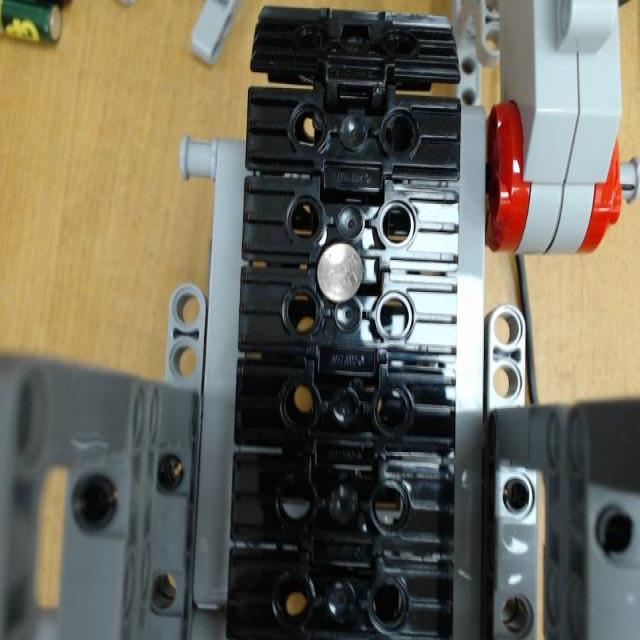COIN: (316, 241, 364, 307)
